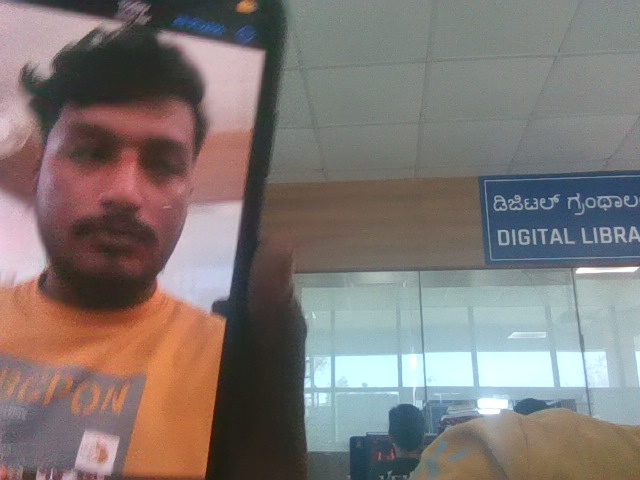fake: (19, 8, 229, 305)
